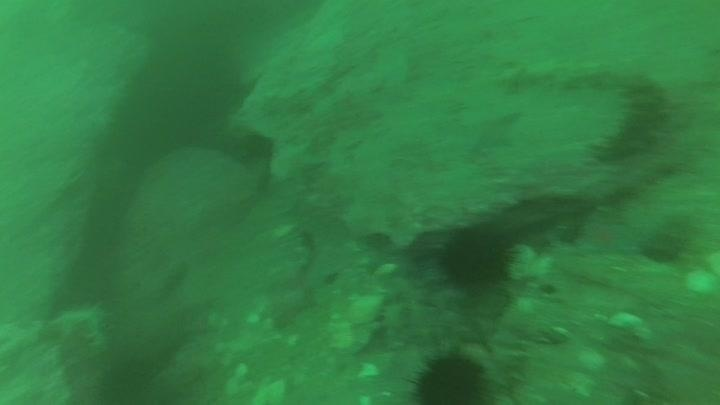echinus: (436, 223, 518, 293), (408, 347, 492, 404)
holothurian: (592, 73, 671, 162), (497, 53, 616, 95)
starfish: (454, 103, 523, 157), (268, 137, 326, 187)
